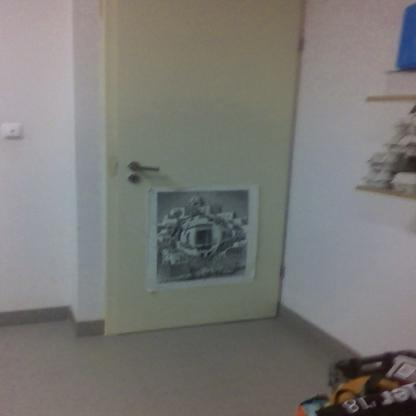door: (118, 0, 280, 316)
hinged: (297, 34, 304, 51), (278, 264, 286, 278)
lever: (131, 162, 162, 172)
